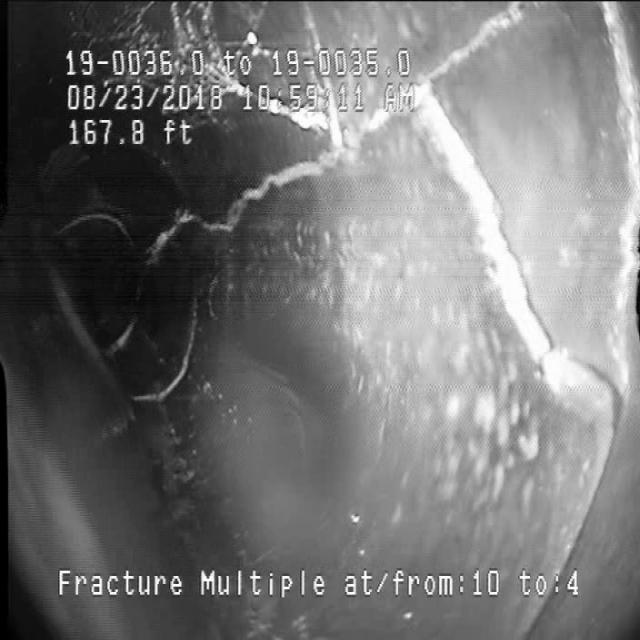Fracture: (428, 117, 612, 409), (223, 86, 393, 236)
